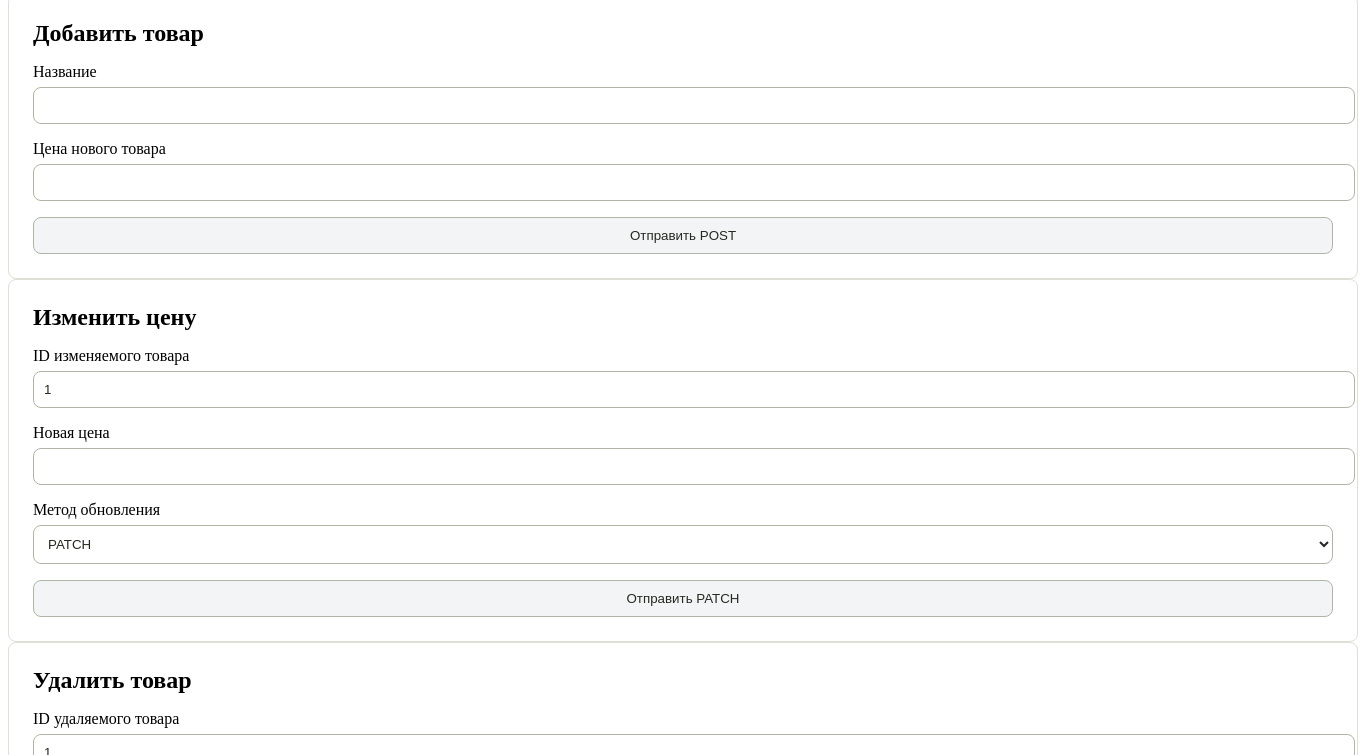
it: the operation forms submit their values through mutation hooks and show the server result
Later steps or results of the test are not shown.
Type " Test " into the field labelled "Название" at (694, 106), box [33,87,1355,124]
Type "15" into the number field labelled "Цена нового товара" at (694, 182), box [33,164,1355,201]
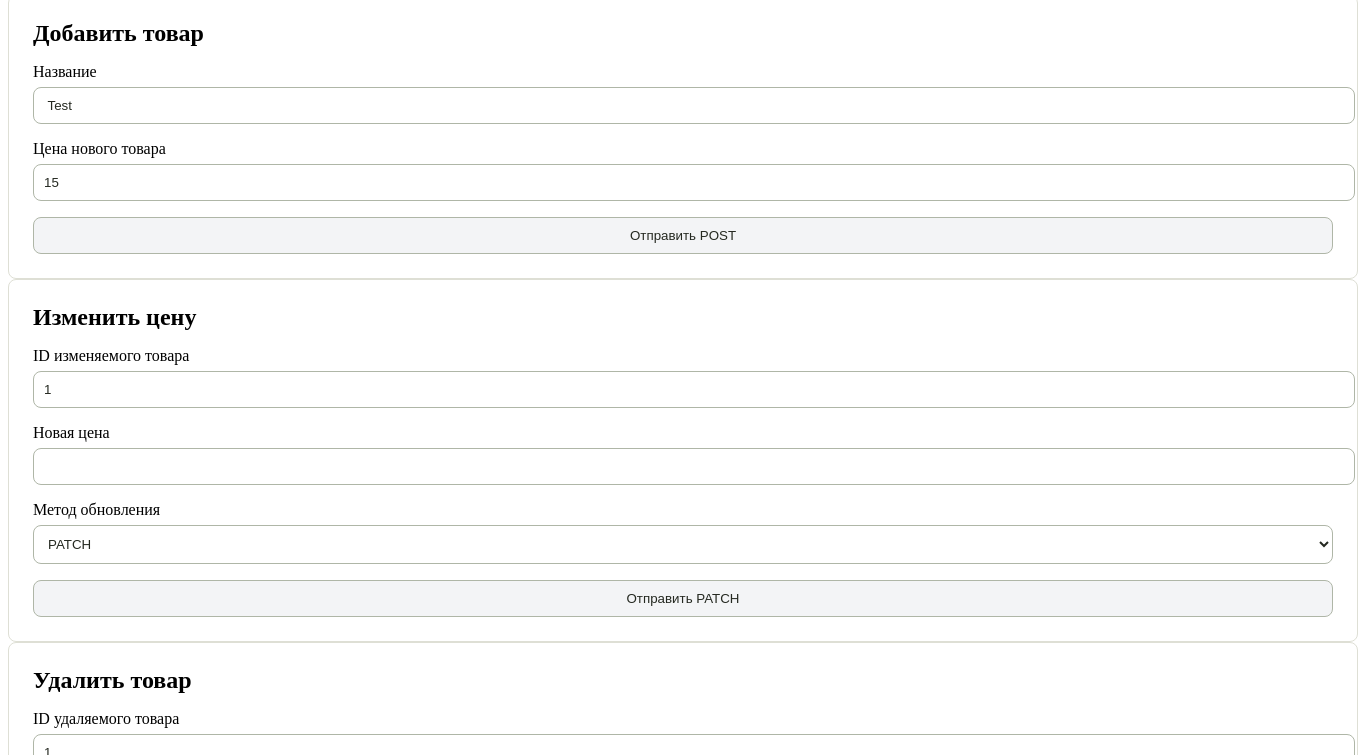
Click the button "Отправить POST" at (683, 236), box [33,217,1333,254]
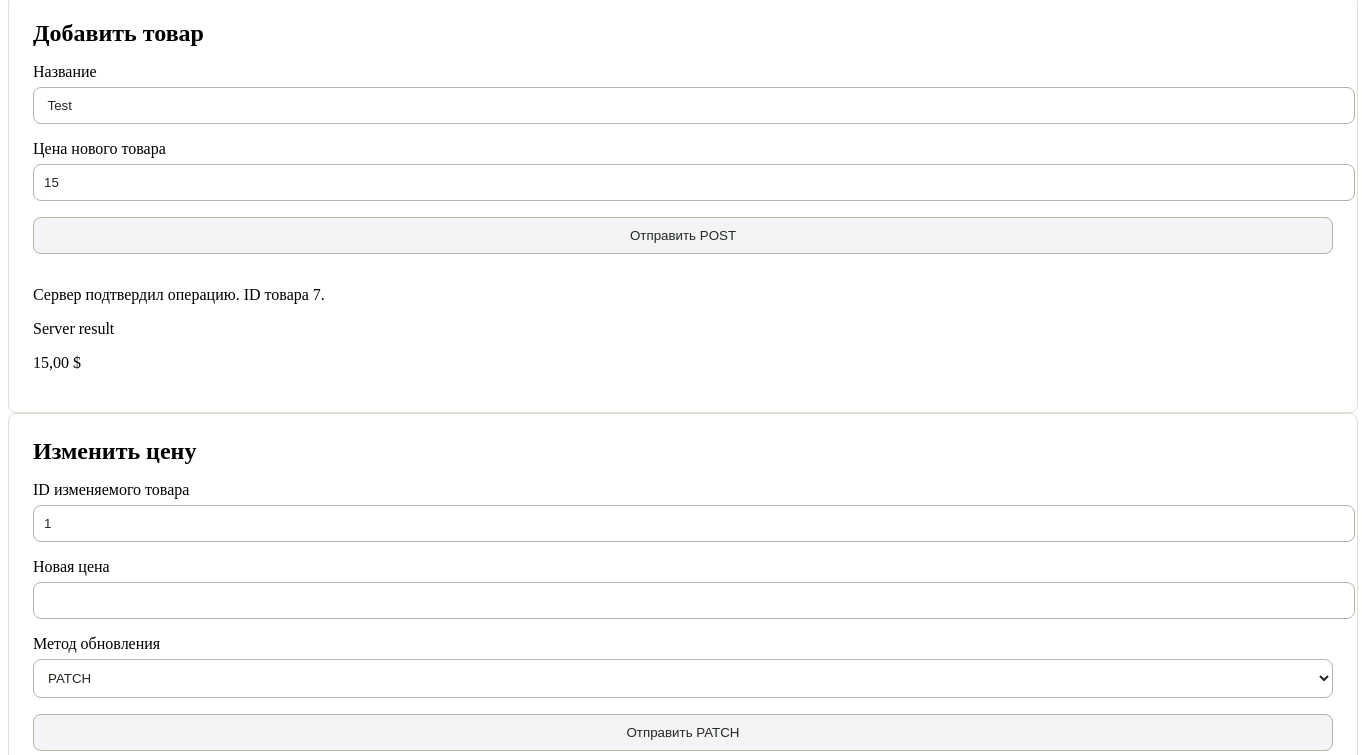
Check: the text "Server result" is shown, box [33,320,114,337]
Replace the text in the number field labelled "ID изменяемого товара" with "7" at (694, 524), box [33,505,1355,542]
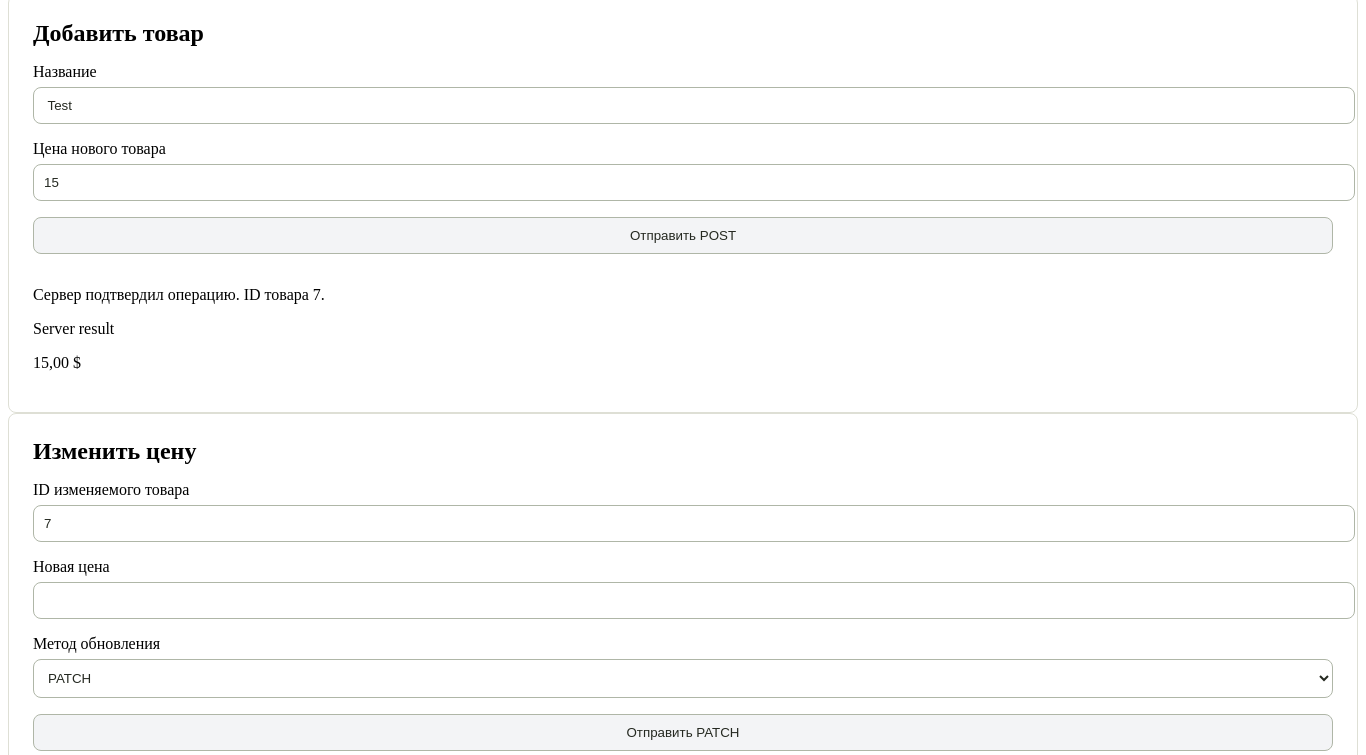
Type "20" into the number field labelled "Новая цена" at (694, 600), box [33,582,1355,619]
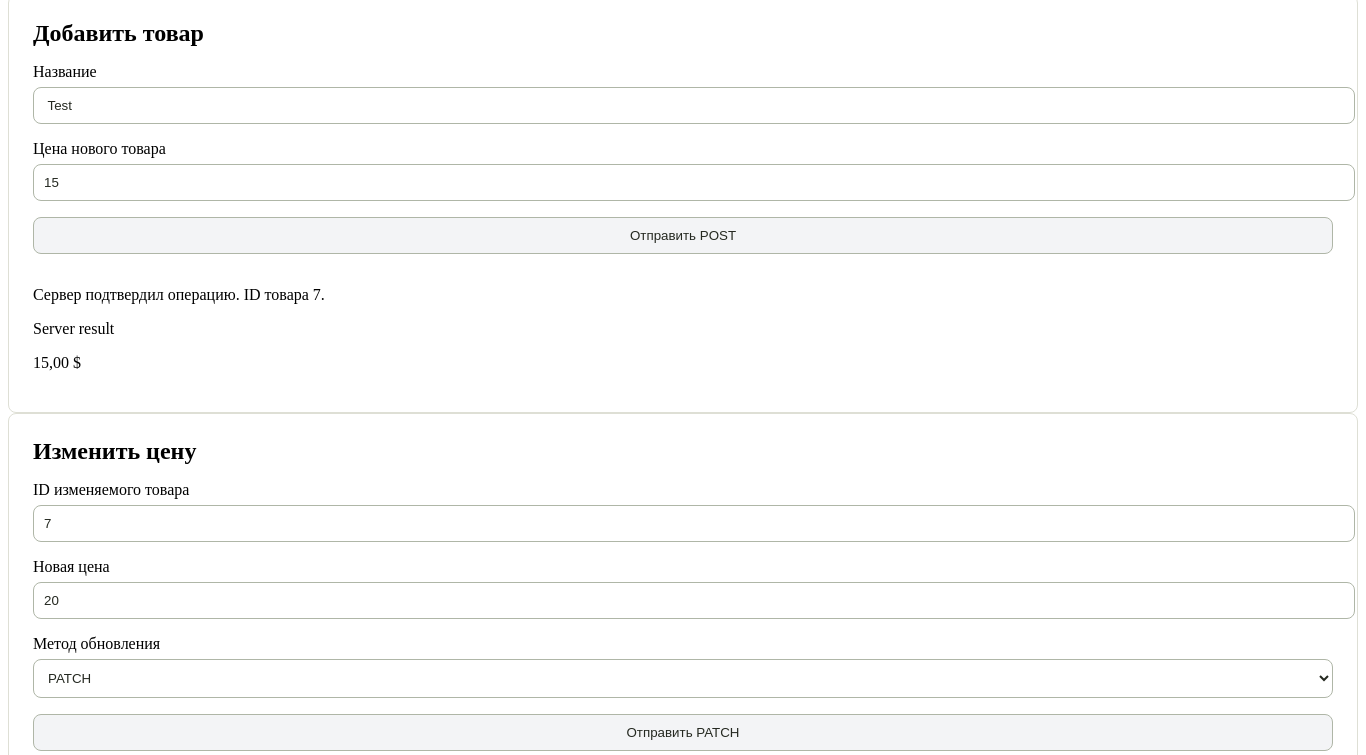
Select "PUT" in the dropdown labelled "Метод обновления" at (683, 678), box [33,659,1333,698]
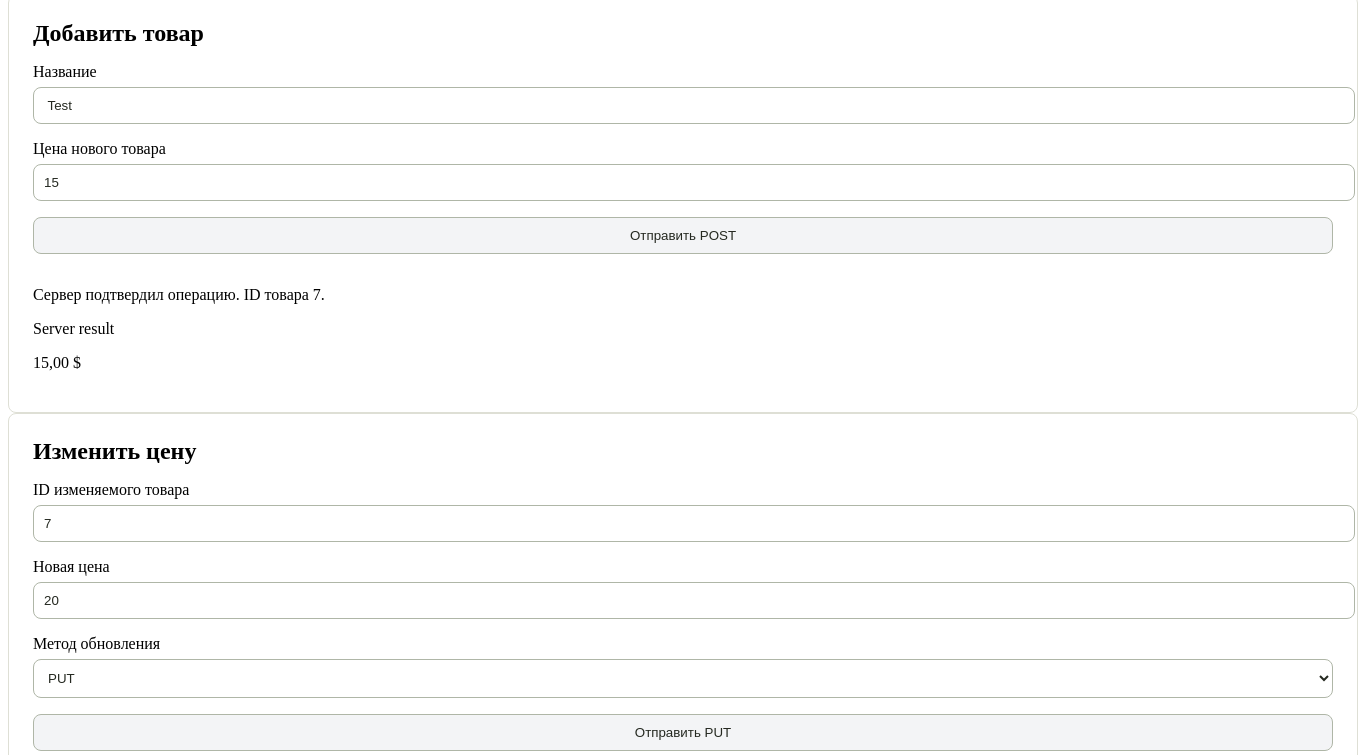
Click the button "Отправить PUT" at (683, 732), box [33,714,1333,751]
(page scrolled)
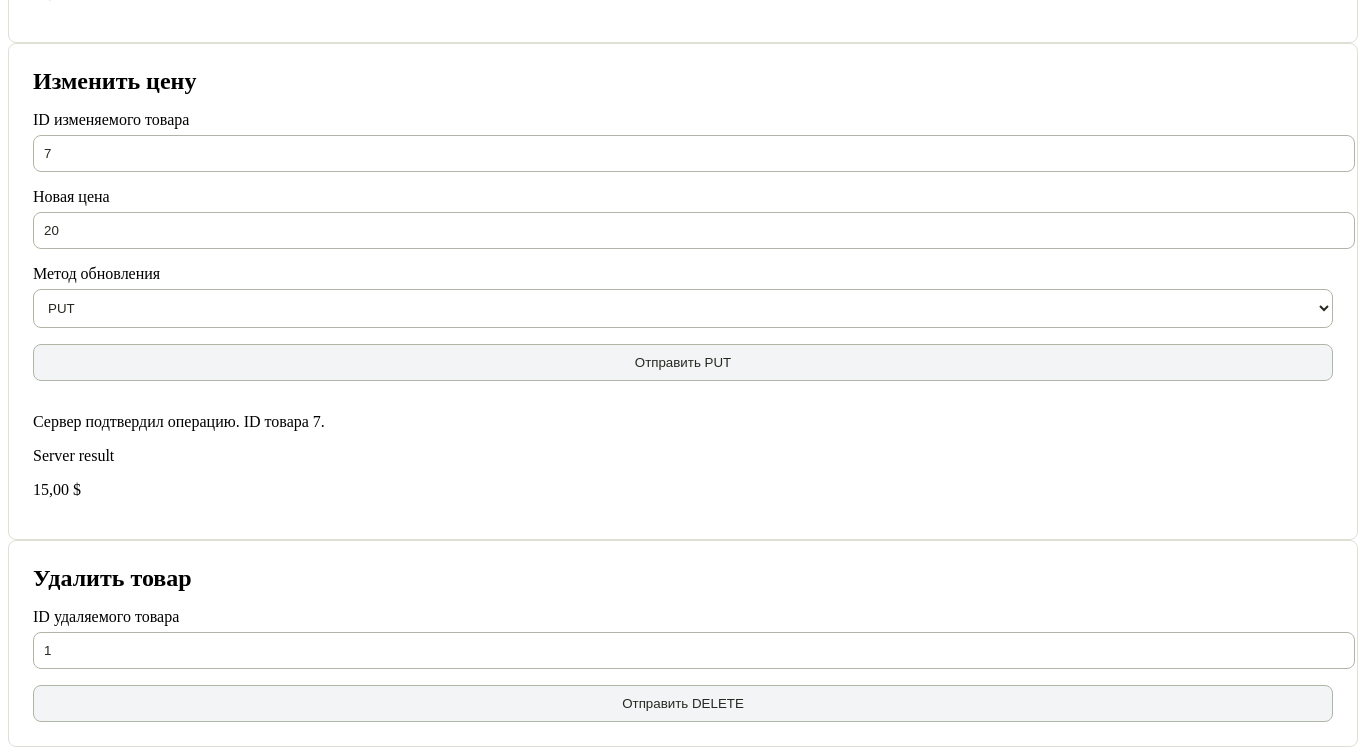
Check: the text "Server result" is shown 2 times
